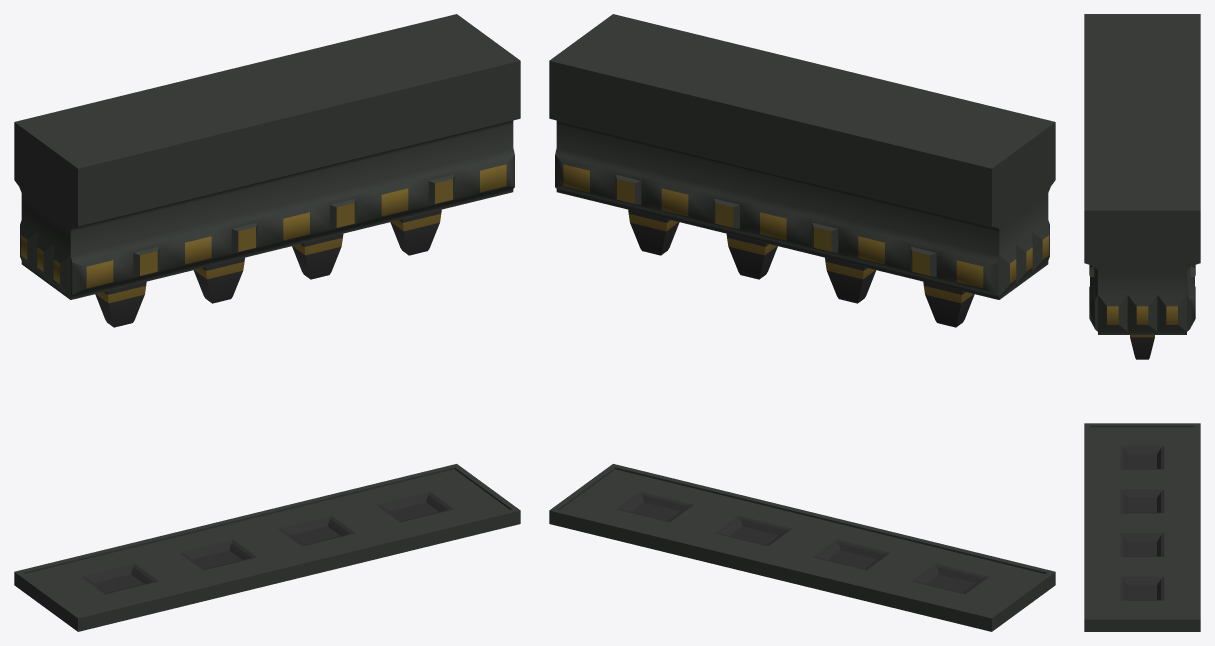
File: Gate.fbx
The picture shows the model from 3 angles, left to right: view 1: azimuth 30°, elevation 25°; view 2: azimuth 150°, elevation 25°; view 3: azimuth 270°, elevation 25°; orthographic projection. The views are drawn at different scales.
Visible parts, largest first — view 1: TOP, DOWN; view 2: TOP, DOWN; view 3: TOP, DOWN.
Part boxes in pixels (bbox=[...]): TOP: bbox=[14, 14, 520, 327]; DOWN: bbox=[14, 464, 520, 631]; TOP: bbox=[549, 14, 1055, 327]; DOWN: bbox=[549, 464, 1055, 631]; TOP: bbox=[1084, 14, 1200, 359]; DOWN: bbox=[1084, 423, 1200, 631].
Bounding box in the file's own units: 821 × 800 × 200.
